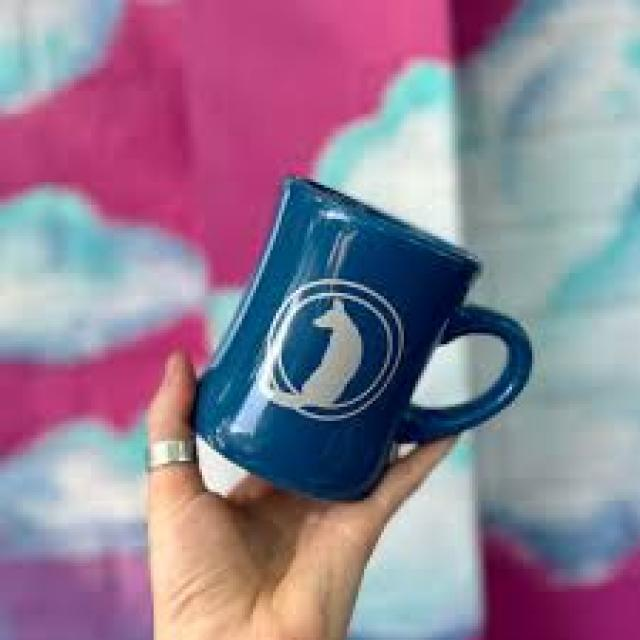taza: (188, 172, 532, 504)
